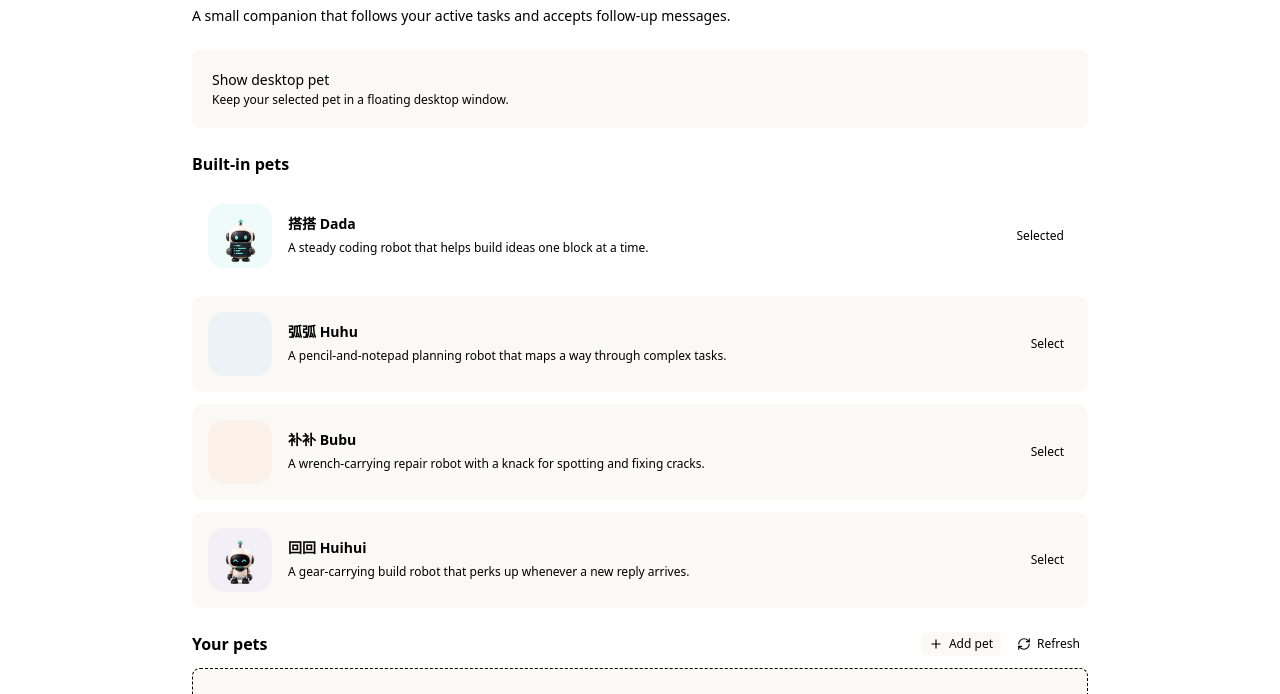
it: PetSettings › creates a lightweight animated pet from one local image and selects it
The image size is (1280, 694).
Click the button "Add pet" at (961, 644), box [921, 632, 1001, 656]
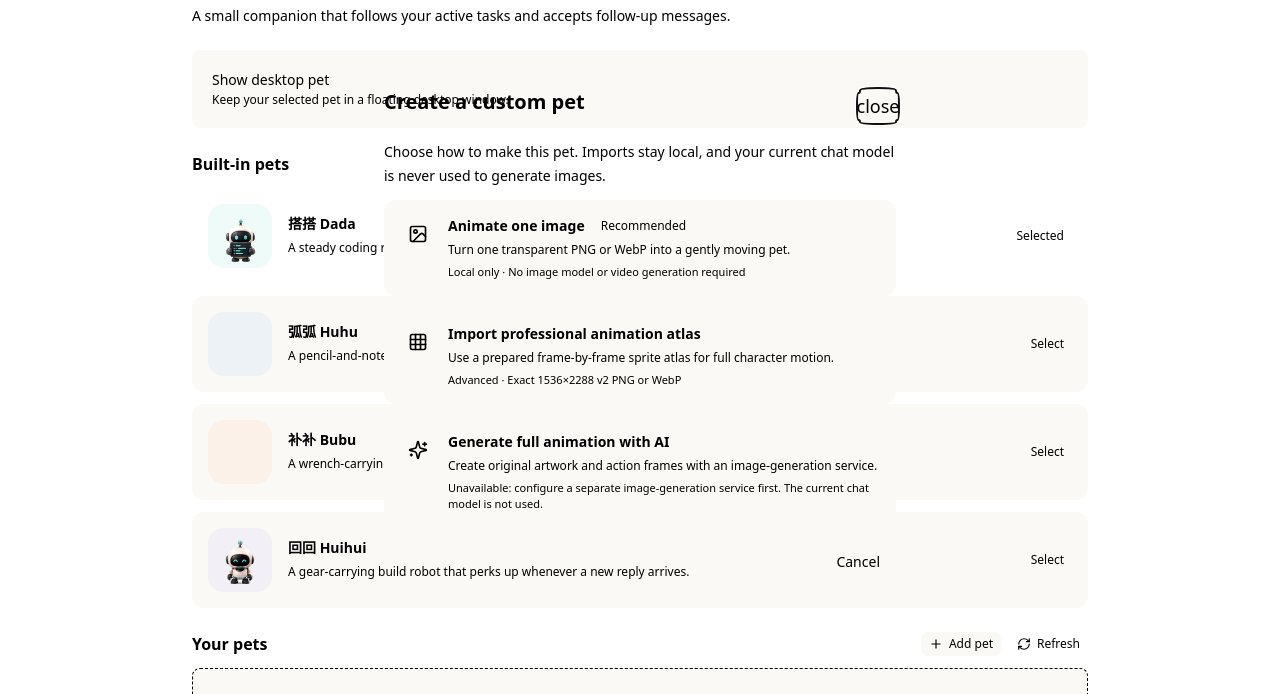
Click the button "Animate one image" at (640, 248), box [384, 200, 896, 296]
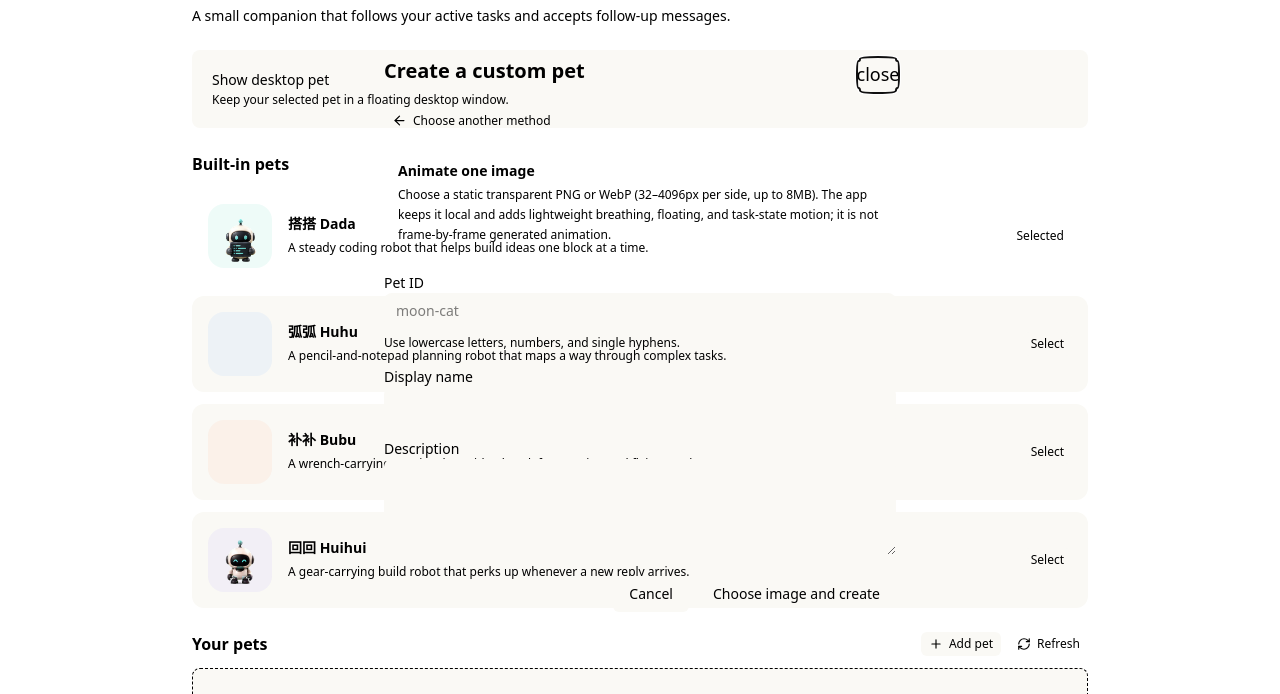
Check: the text "lightweight breathing, floating, and task-state motion" is shown, box [398, 186, 878, 242]
Type "orbit-fox" into the field labelled "Pet ID" at (640, 310), box [384, 292, 896, 328]
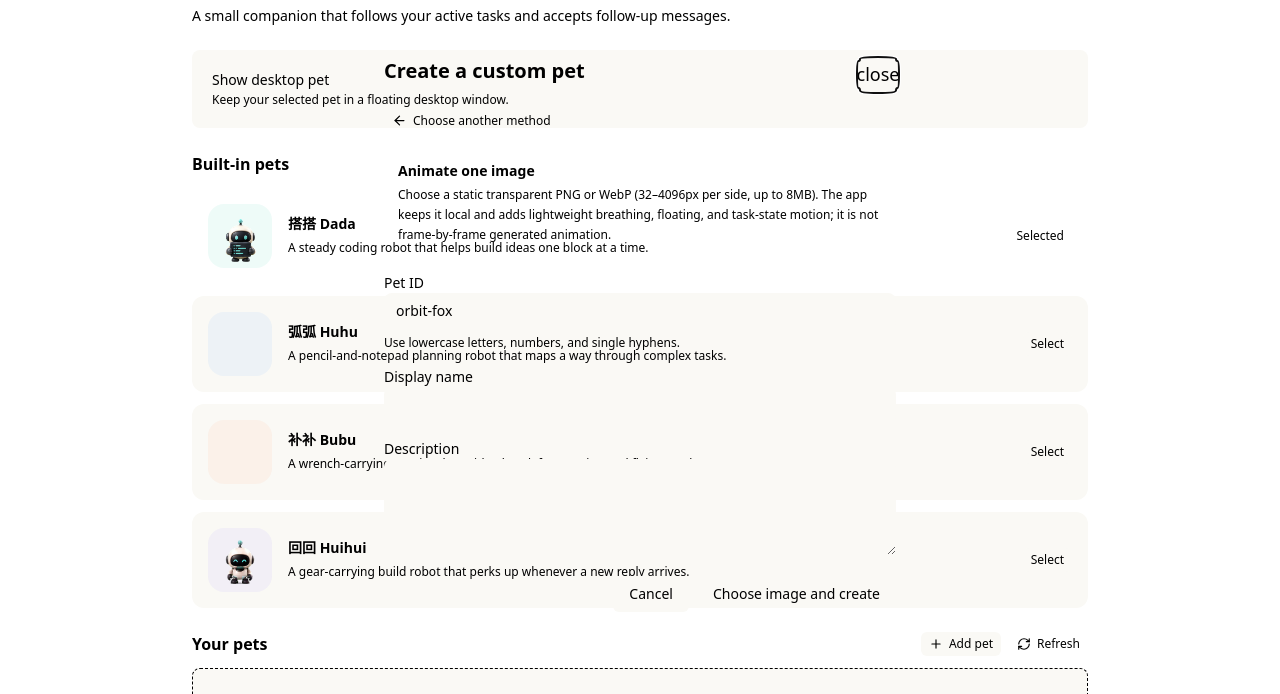
Type "Orbit Fox" into the field labelled "Display name" at (640, 404), box [384, 386, 896, 422]
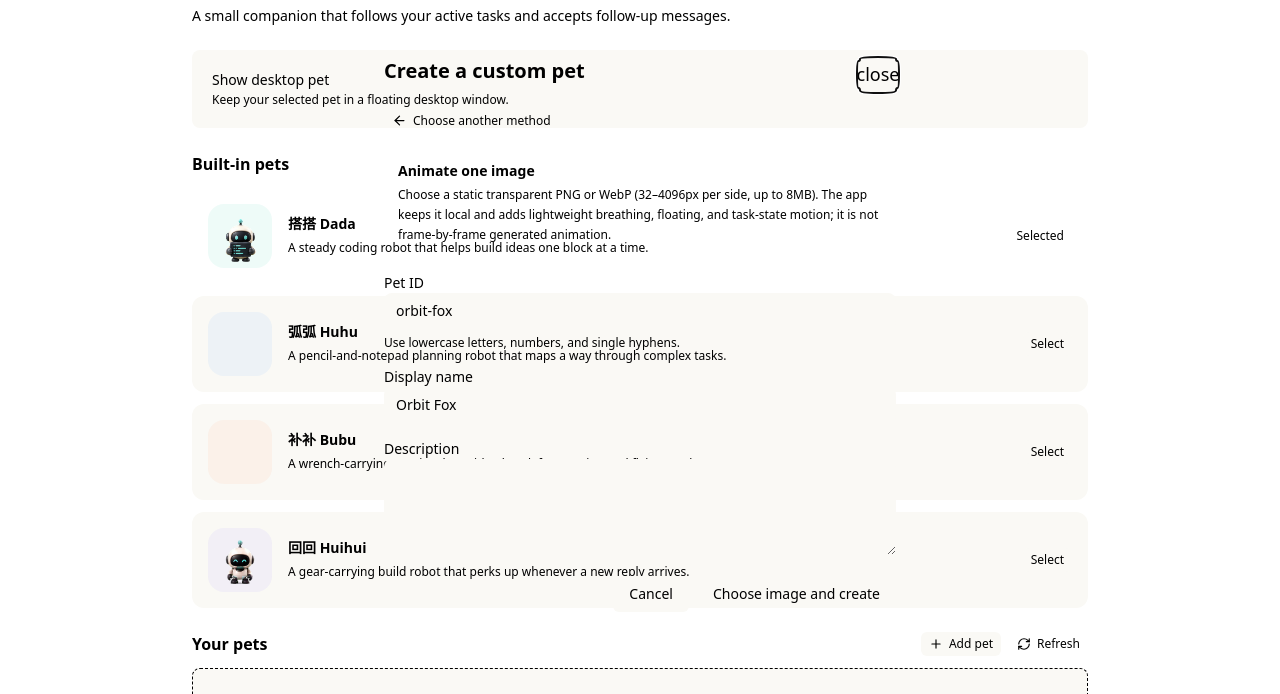
Type "A bright local companion." into the text box labelled "Description" at (640, 506), box [384, 458, 896, 554]
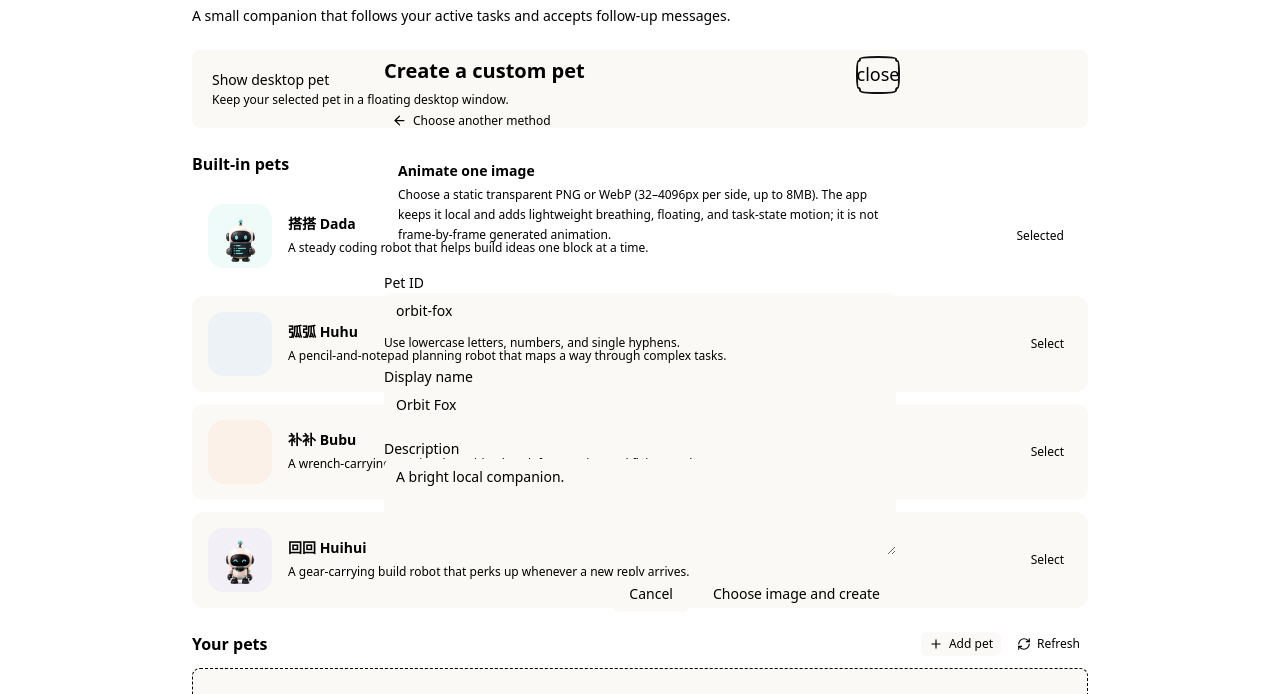
Click the button "Choose image and create" at (796, 594), box [697, 576, 896, 612]
(page scrolled)
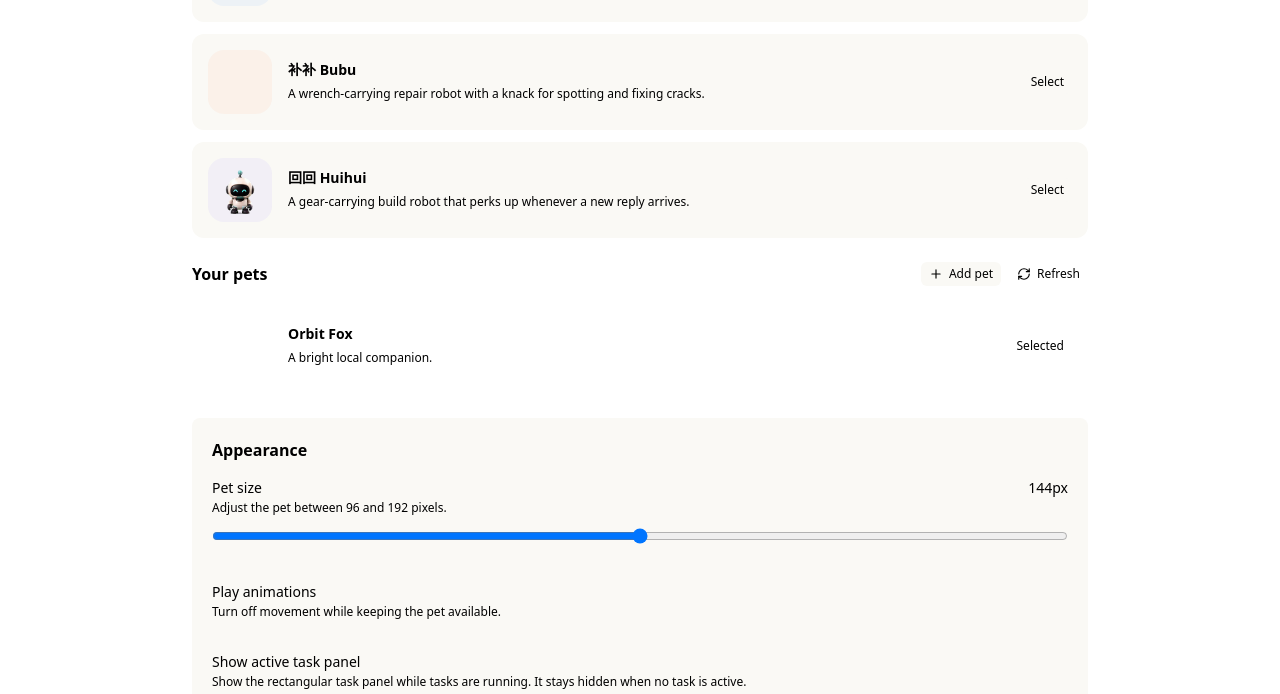
Check: the heading "Orbit Fox" is shown, box [288, 324, 352, 343]
